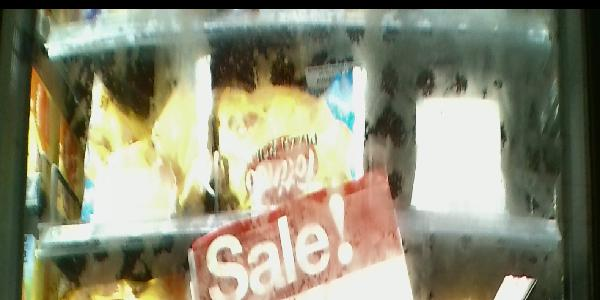icecream: (211, 72, 361, 207)
